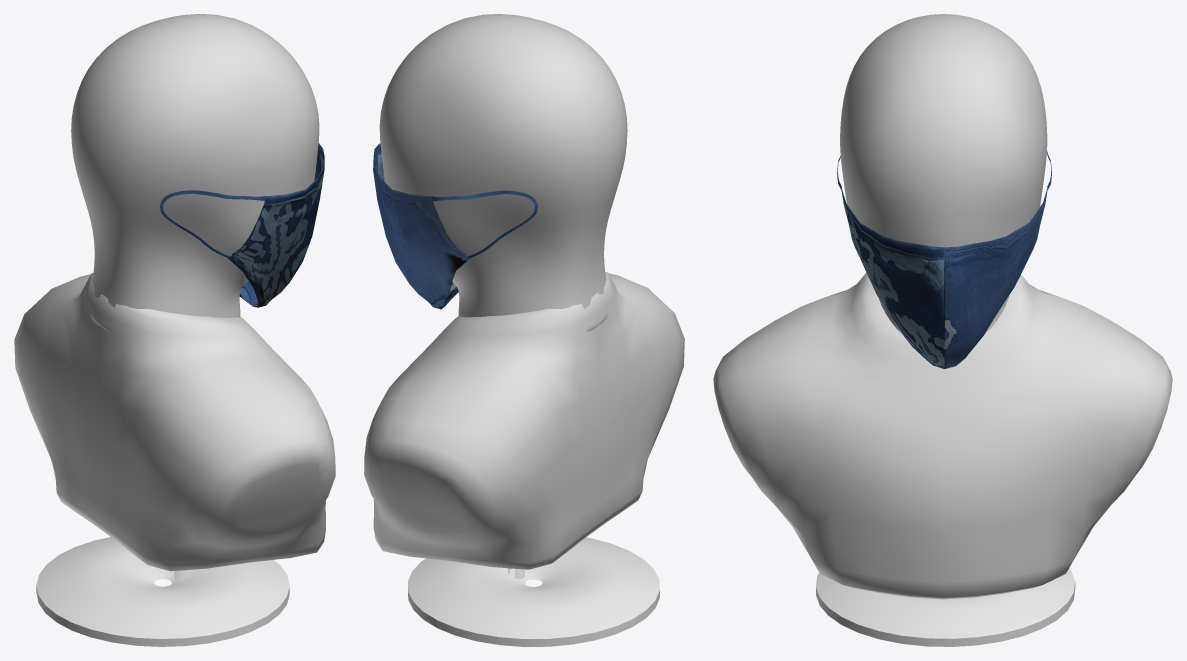
The picture shows the model from 3 angles, left to right: view 1: azimuth 30°, elevation 25°; view 2: azimuth 150°, elevation 25°; view 3: azimuth 270°, elevation 25°; orthographic projection. The views are drawn at different scales.
Parts seen in each view (by area): view 1: Cube.107, 4.001_Mannequin_0, Circle.033, 4.001_Default.006_0; view 2: Cube.107, 4.001_Mannequin_0, Circle.033, 4.001_Default.006_0; view 3: Cube.107, 4.001_Mannequin_0, 4.001_Default.006_0, Circle.033.
Part boxes in pixels (left/top/right/bottom): Cube.107: left=14, top=273, right=335, bottom=571; 4.001_Mannequin_0: left=71, top=14, right=319, bottom=331; Circle.033: left=36, top=537, right=289, bottom=646; 4.001_Default.006_0: left=160, top=143, right=324, bottom=307; Cube.107: left=364, top=271, right=684, bottom=569; 4.001_Mannequin_0: left=379, top=14, right=627, bottom=331; Circle.033: left=408, top=537, right=659, bottom=646; 4.001_Default.006_0: left=373, top=143, right=537, bottom=309; Cube.107: left=713, top=272, right=1172, bottom=599; 4.001_Mannequin_0: left=840, top=14, right=1047, bottom=336; 4.001_Default.006_0: left=837, top=151, right=1051, bottom=368; Circle.033: left=816, top=568, right=1075, bottom=646.
Size of what is drawn, in the model's own units: 35.72 by 71.94 by 51.94.
Materials: 4 (2 with a texture image).
